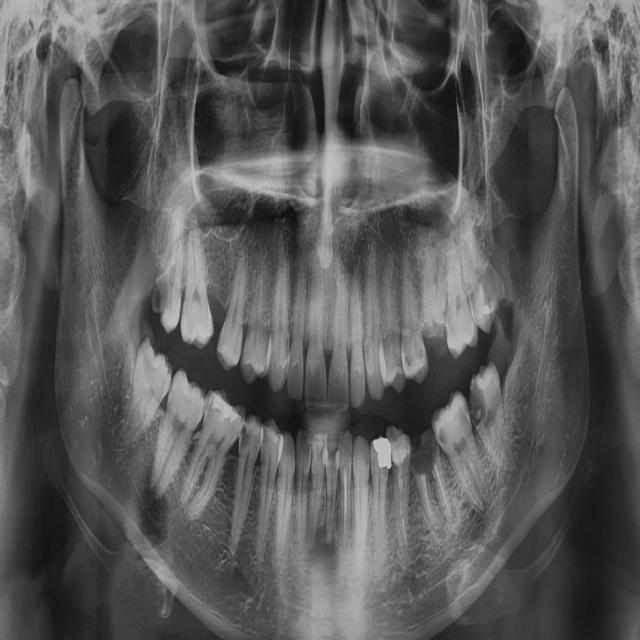Caries: (481, 259, 505, 313), (153, 265, 173, 319), (469, 377, 486, 427), (239, 422, 252, 455), (460, 396, 471, 431), (205, 395, 218, 424), (415, 338, 425, 366), (446, 311, 455, 341), (467, 291, 477, 317), (438, 424, 448, 446), (284, 331, 290, 360), (404, 350, 411, 372), (364, 448, 370, 472), (371, 448, 375, 475), (382, 464, 388, 478)
Filling: (386, 424, 411, 464), (212, 391, 239, 422), (372, 438, 392, 469), (312, 437, 329, 470), (335, 446, 339, 469)
Missing teeth: (206, 288, 229, 348)
Periapical lesion: (141, 486, 168, 547), (312, 522, 338, 573), (433, 521, 445, 539), (147, 475, 158, 493), (474, 499, 487, 514)
Root Canal Treatment: (343, 469, 347, 549), (400, 502, 406, 543)
Root Piece: (419, 428, 457, 525), (410, 436, 443, 537), (420, 230, 439, 376), (435, 252, 449, 358)
impacted tooth: (113, 336, 172, 446)
